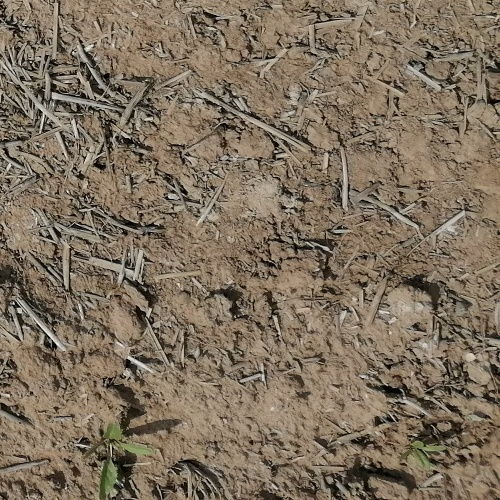beet: (90, 421, 153, 500), (397, 438, 446, 471)
